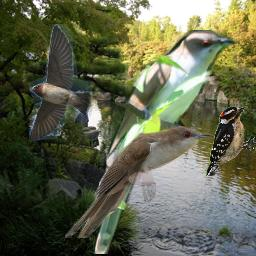Cuckoo: (93, 30, 240, 254), (65, 126, 214, 238)
Swallow: (29, 24, 92, 142)
Woodpecker: (206, 106, 256, 176)
